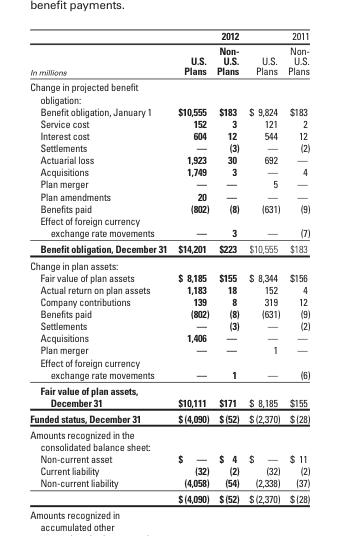table: (29, 29, 309, 504)
table column: (29, 29, 172, 504), (172, 29, 212, 504), (243, 29, 283, 504), (212, 29, 243, 504), (283, 29, 309, 504)
table column header: (29, 29, 309, 78)
table projected row header: (29, 425, 309, 452), (29, 78, 309, 104), (29, 256, 309, 270)
table row: (29, 42, 309, 78), (29, 381, 309, 409), (29, 213, 309, 240), (29, 425, 309, 452), (29, 78, 309, 104), (29, 355, 309, 381), (29, 240, 309, 256), (29, 409, 309, 425), (29, 256, 309, 270), (29, 476, 309, 490), (29, 490, 309, 504), (29, 29, 309, 42), (29, 116, 309, 129), (29, 282, 309, 295), (29, 104, 309, 116), (29, 129, 309, 141), (29, 141, 309, 153), (29, 153, 309, 165), (29, 165, 309, 177), (29, 177, 309, 189), (29, 189, 309, 201), (29, 201, 309, 213), (29, 270, 309, 282), (29, 295, 309, 307), (29, 307, 309, 319), (29, 319, 309, 331), (29, 331, 309, 343), (29, 343, 309, 355), (29, 452, 309, 464), (29, 464, 309, 476)
table spanning cell: (29, 29, 172, 78), (172, 29, 243, 42), (243, 29, 309, 42)
